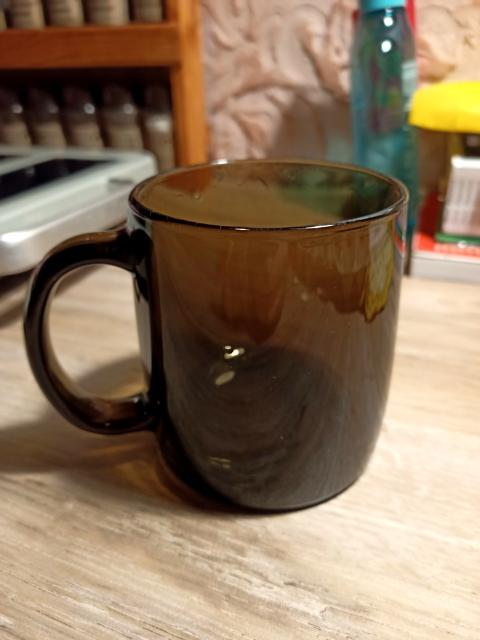Cup: (25, 161, 407, 510)
